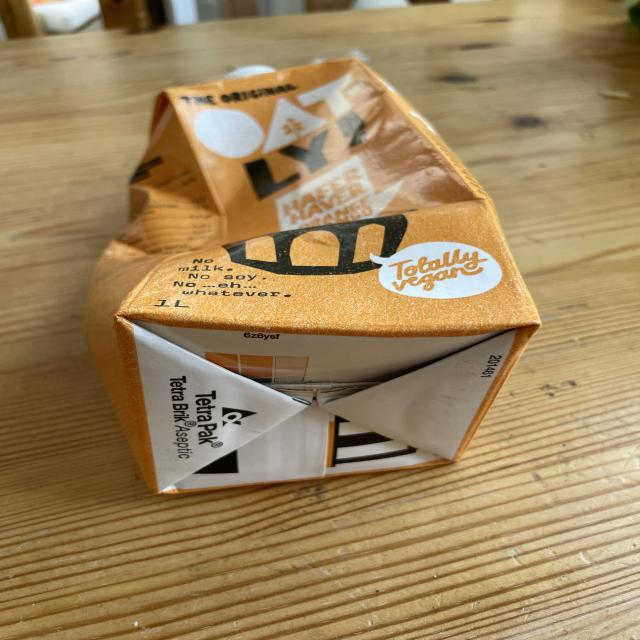non_white_jug: (88, 54, 540, 502)
